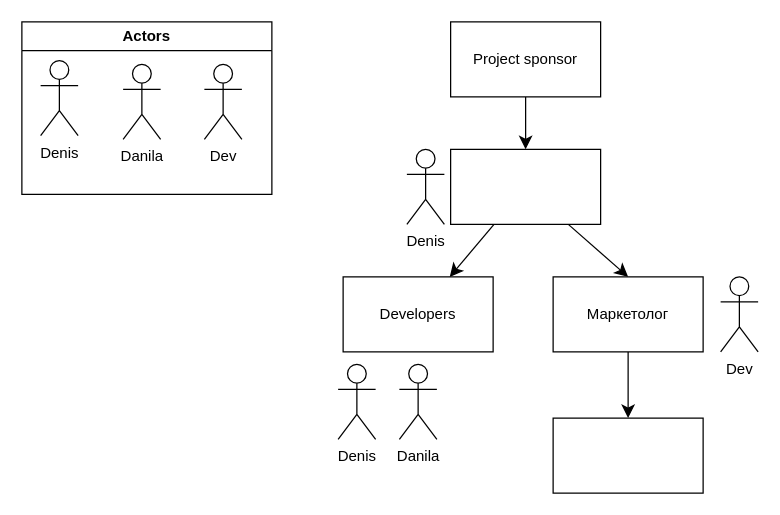
Some shapes in this 780 by 515 pixel diagram are drawn without their labels. The shapes that lost their labels are listed below. From the top down, each one's centre as x and y in pixels, then its label:
the point at 525,186: Product manager
the point at 627,455: Пользователи
